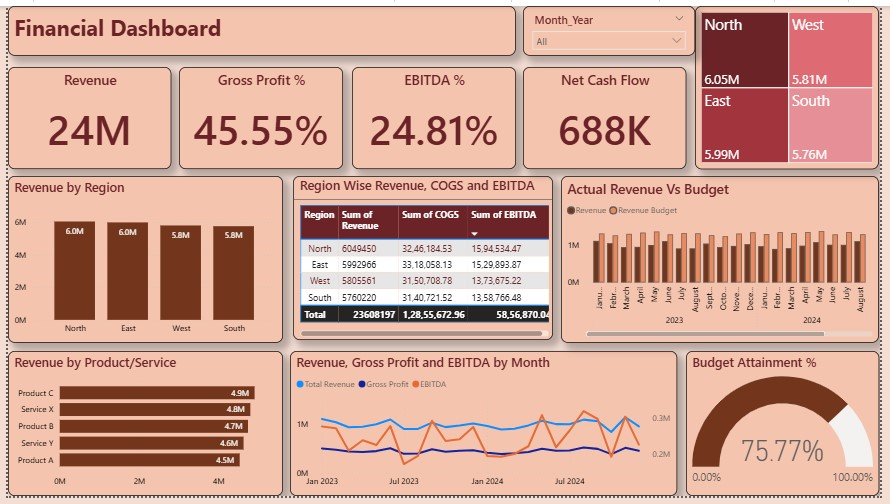

Layout of this report page (visuals, bound fields, positions):
{"tool":"powerbi","page":{"name":"Financial Dashboard","canvas":[1280,720],"ordinal":0},"visuals":[{"type":"textbox","box":[0,0,746.4,73.5],"z":0},{"type":"card","title":"Revenue","fields":{"Values":["Measure Table.Total_Revenue"]},"box":[0,89.6,239.5,149.9],"z":1000},{"type":"card","title":"Gross Profit %","fields":{"Values":["Measure Table.Gross_Proit%"]},"box":[251.3,89.6,241,149.9],"z":2000},{"type":"card","title":"EBITDA %","fields":{"Values":["Measure Table.EBITDA%"]},"box":[505.5,89.6,241,149.9],"z":3000},{"type":"clusteredColumnChart","title":"Revenue by Region","fields":{"Y":["Sum(Data.Revenue)"],"Category":["Data.Region"]},"box":[0,249.8,404.1,245.4],"z":4000},{"type":"barChart","title":"Revenue by Product/Service","fields":{"Category":["Data.Product/Service"],"Y":["Sum(Data.Revenue)"]},"box":[0,506.9,404.1,213.1],"z":5000},{"type":"tableEx","title":"Region Wise Revenue, COGS and EBITDA","fields":{"Values":["Data.Region","Sum(Data.Revenue)","Sum(Data.COGS)","Sum(Data.EBITDA)"]},"box":[418.8,249.8,382,241],"z":6000},{"type":"card","title":"Net Cash Flow","fields":{"Values":["Measure Table.Net_Cash_Flow"]},"box":[756.7,89.6,239.5,149.9],"z":7000},{"type":"lineChart","title":"Revenue, Gross Profit and EBITDA by Month","fields":{"Y2":["Sum(Data.EBITDA)"],"Y":["Sum(Data.Revenue)","Sum(Data.Gross Profit)"],"Category":["Data.Month"]},"box":[414.4,506.9,568.7,213.1],"z":8000},{"type":"clusteredColumnChart","title":"Actual Revenue Vs Budget","fields":{"Y":["Sum(Data.Revenue)","Sum(Data.Revenue Budget)"],"Category":["Date_Table.Date.Variation.Date Hierarchy.Year","Date_Table.Date.Variation.Date Hierarchy.Month"]},"box":[812.6,249.8,467.3,245.4],"z":9000},{"type":"gauge","fields":{"Y":["Measure Table.Budget Attainment %"]},"box":[996.2,506.9,283.6,213.1],"z":10000},{"type":"treemap","fields":{"Group":["Data.Region"],"Values":["Measure Table.Total_Revenue"]},"box":[1009.5,0,270.4,239.5],"z":12000},{"type":"slicer","fields":{"Values":["Date_Table.Month_Year"]},"box":[756.7,0,252.7,73.5],"z":12500}]}

Visuals, with their boxes in screenshot pixels (x1, y1, x2, y2), scaled from the page's 1280x720 canvas onto the 890x504 screenshot:
textbox: x1=0, y1=0, x2=519, y2=51
"Revenue" card: x1=0, y1=63, x2=167, y2=168
"Gross Profit %" card: x1=175, y1=63, x2=342, y2=168
"EBITDA %" card: x1=351, y1=63, x2=519, y2=168
"Revenue by Region" clusteredColumnChart: x1=0, y1=175, x2=281, y2=347
"Revenue by Product/Service" barChart: x1=0, y1=355, x2=281, y2=503
"Region Wise Revenue, COGS and EBITDA" tableEx: x1=291, y1=175, x2=557, y2=344
"Net Cash Flow" card: x1=526, y1=63, x2=693, y2=168
"Revenue, Gross Profit and EBITDA by Month" lineChart: x1=288, y1=355, x2=684, y2=503
"Actual Revenue Vs Budget" clusteredColumnChart: x1=565, y1=175, x2=889, y2=347
gauge - Measure Table.Budget Attainment %: x1=693, y1=355, x2=889, y2=503
treemap - Data.Region x Measure Table.Total_Revenue: x1=702, y1=0, x2=889, y2=168
slicer - Date_Table.Month_Year: x1=526, y1=0, x2=702, y2=51
